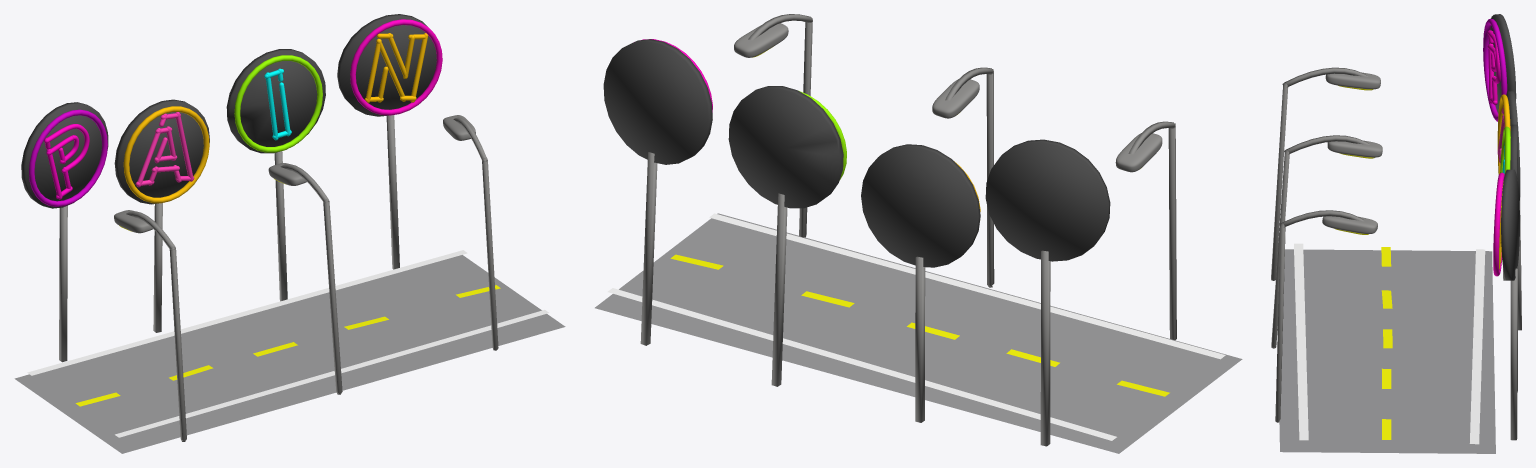
Rendered from pain.glb.
The picture shows the model from 3 angles, left to right: view 1: azimuth 30°, elevation 25°; view 2: azimuth 150°, elevation 25°; view 3: azimuth 270°, elevation 25°; orthographic projection. The views are drawn at different scales.
Parts seen in each view (by area): view 1: pain2; view 2: pain2; view 3: pain2.
Boxes of the visible parts, box(x1,y1,x2,y2) form: pain2: box(14, 14, 565, 453); pain2: box(595, 14, 1242, 453); pain2: box(1271, 14, 1521, 453).
Bounding box in the file's own units: 6.05 × 3.43 × 2.91.
